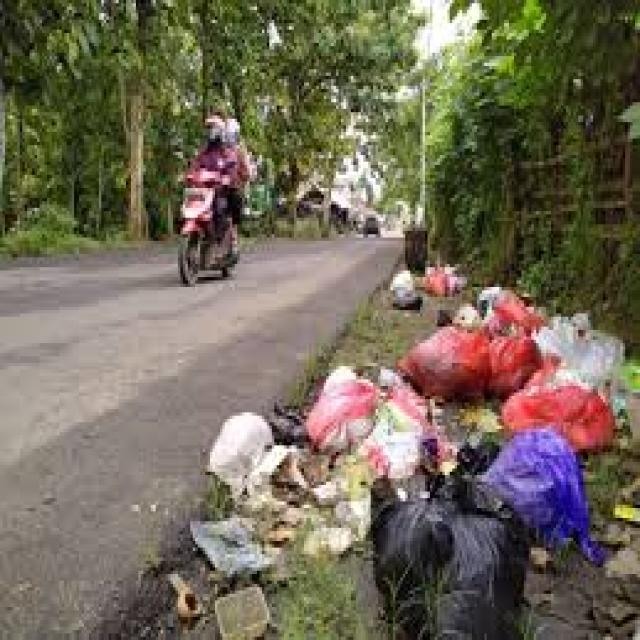trash: (330, 261, 636, 640)
